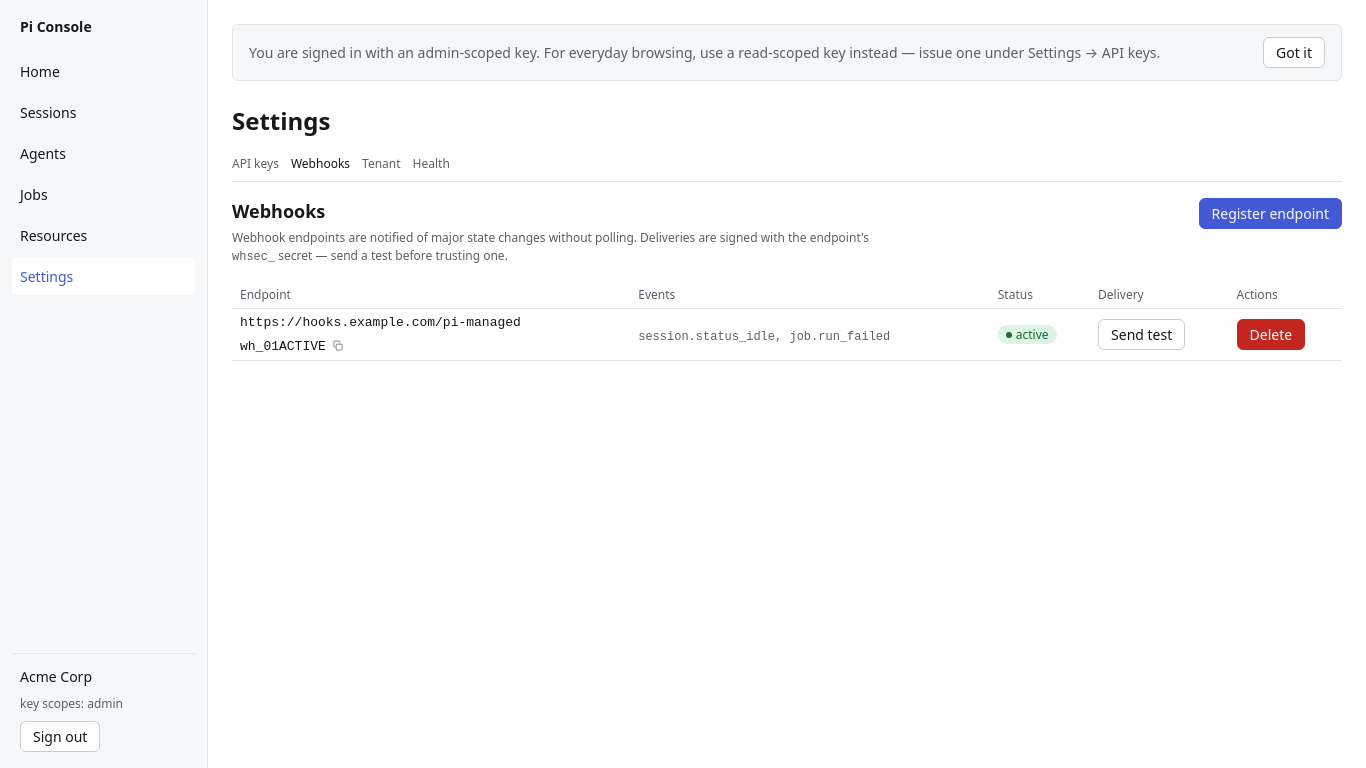
Test: test delivery (W13: send test before trusting it) › reports a refused delivery with the response code
Click the button "Send test" at (1142, 335), box x1=1098 y1=319 x2=1185 y2=350
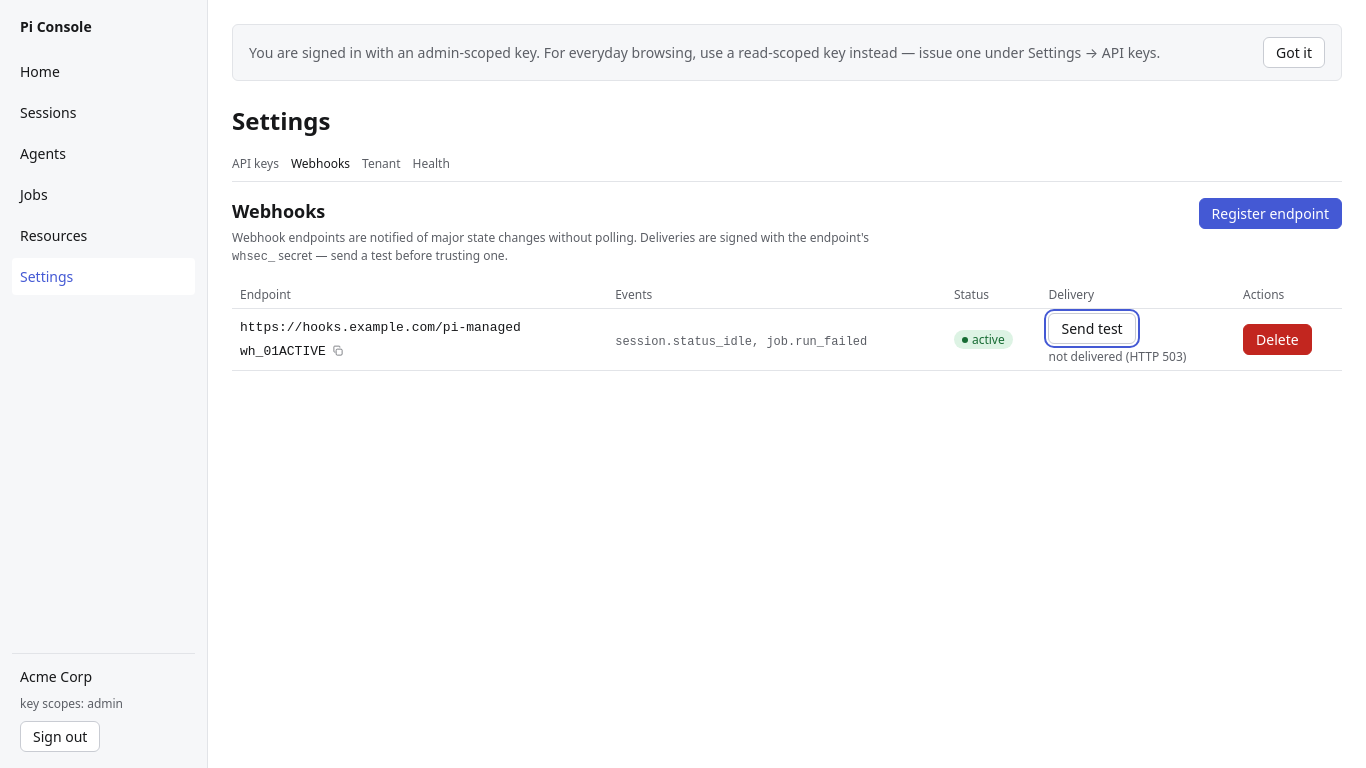
Expected: the text "not delivered (HTTP 503)" is shown, x1=1048 y1=348 x2=1186 y2=366
